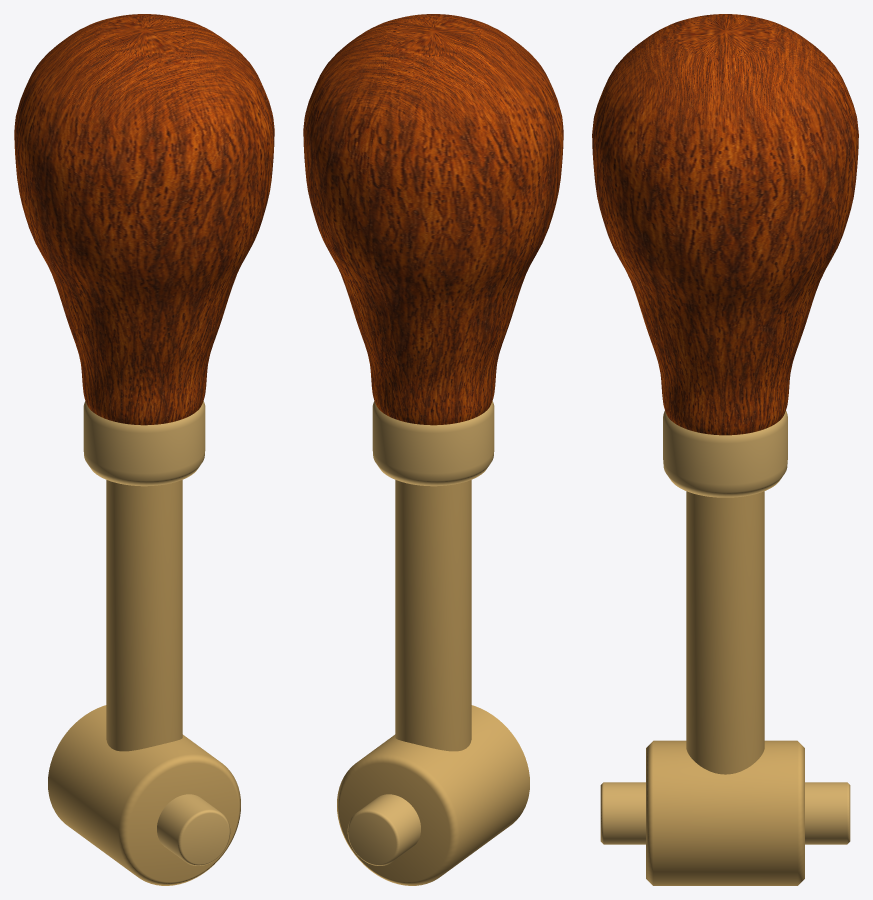
File: lever_handle.glb
3 views of the same model, side by side, from view 1: azimuth 30°, elevation 25°; view 2: azimuth 150°, elevation 25°; view 3: azimuth 270°, elevation 25° (orthographic). The views are drawn at different scales.
Parts seen in each view (by area): view 1: MovingHandle_GripWood, MovingHandle_Brass, MovingHandle_PolishedBrass; view 2: MovingHandle_GripWood, MovingHandle_Brass, MovingHandle_PolishedBrass; view 3: MovingHandle_GripWood, MovingHandle_Brass, MovingHandle_PolishedBrass.
Part boxes in pixels (x1=…): MovingHandle_GripWood: x1=14, y1=14, x2=274, y2=425; MovingHandle_Brass: x1=48, y1=480, x2=240, y2=885; MovingHandle_PolishedBrass: x1=83, y1=401, x2=230, y2=865; MovingHandle_GripWood: x1=303, y1=14, x2=563, y2=425; MovingHandle_Brass: x1=337, y1=480, x2=529, y2=885; MovingHandle_PolishedBrass: x1=347, y1=401, x2=494, y2=865; MovingHandle_GripWood: x1=592, y1=14, x2=858, y2=435; MovingHandle_Brass: x1=646, y1=491, x2=804, y2=885; MovingHandle_PolishedBrass: x1=600, y1=411, x2=850, y2=844.
Size of the model in its own units: 0.047 by 0.1648 by 0.047.
3 materials, 1 textured.
